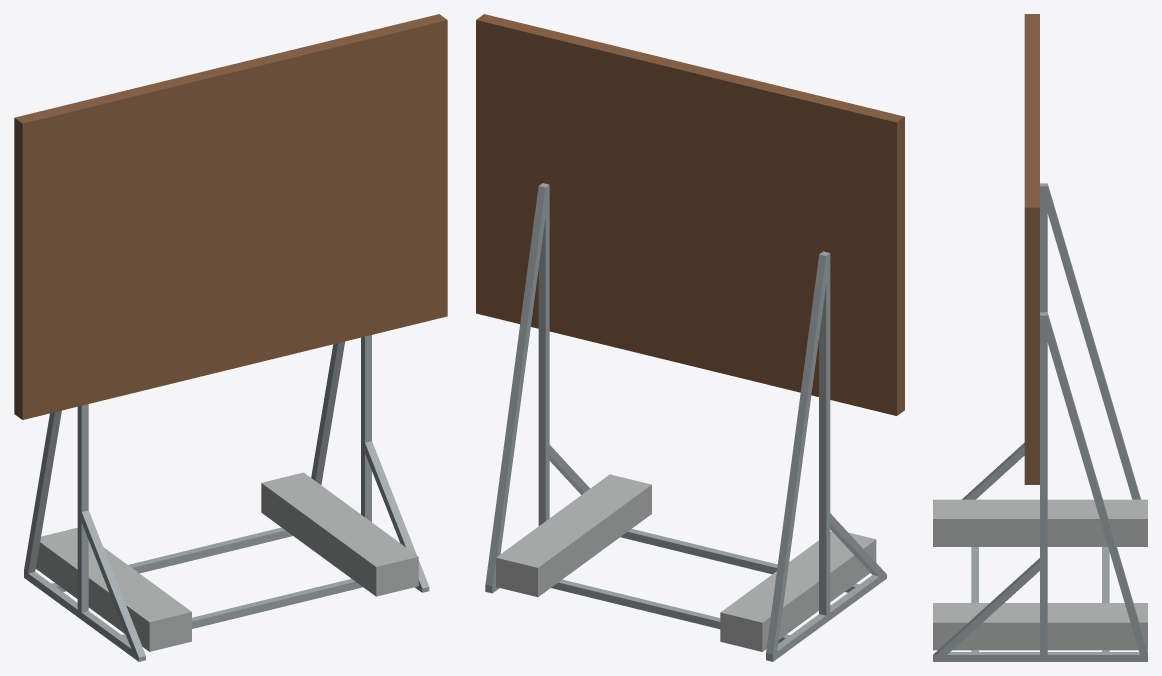
File: V-Bauschild_dae.dae
The picture shows the model from 3 angles, left to right: view 1: azimuth 30°, elevation 25°; view 2: azimuth 150°, elevation 25°; view 3: azimuth 270°, elevation 25°; orthographic projection. The views are drawn at different scales.
Visible parts, largest first — view 1: 32yOTpy9fFWvl4XC9R282w; view 2: 32yOTpy9fFWvl4XC9R282w; view 3: 32yOTpy9fFWvl4XC9R282w.
Part boxes in pixels (x1,y1,x2,y2): 32yOTpy9fFWvl4XC9R282w: (14, 14, 447, 661); 32yOTpy9fFWvl4XC9R282w: (476, 14, 904, 661); 32yOTpy9fFWvl4XC9R282w: (933, 14, 1147, 661).
Bounding box in the file's own units: 3 × 1.41 × 3.5.
